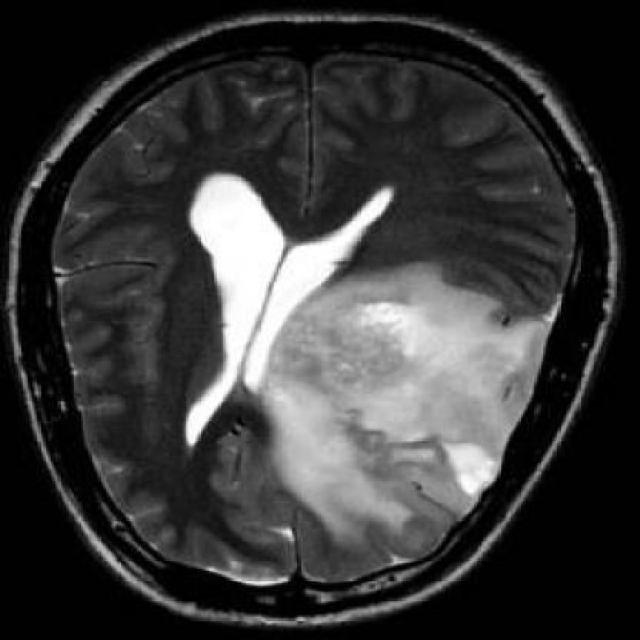Tumor: (293, 279, 516, 503)
